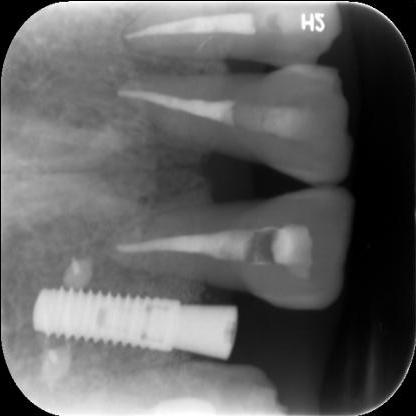ITI: (28, 281, 184, 363)
